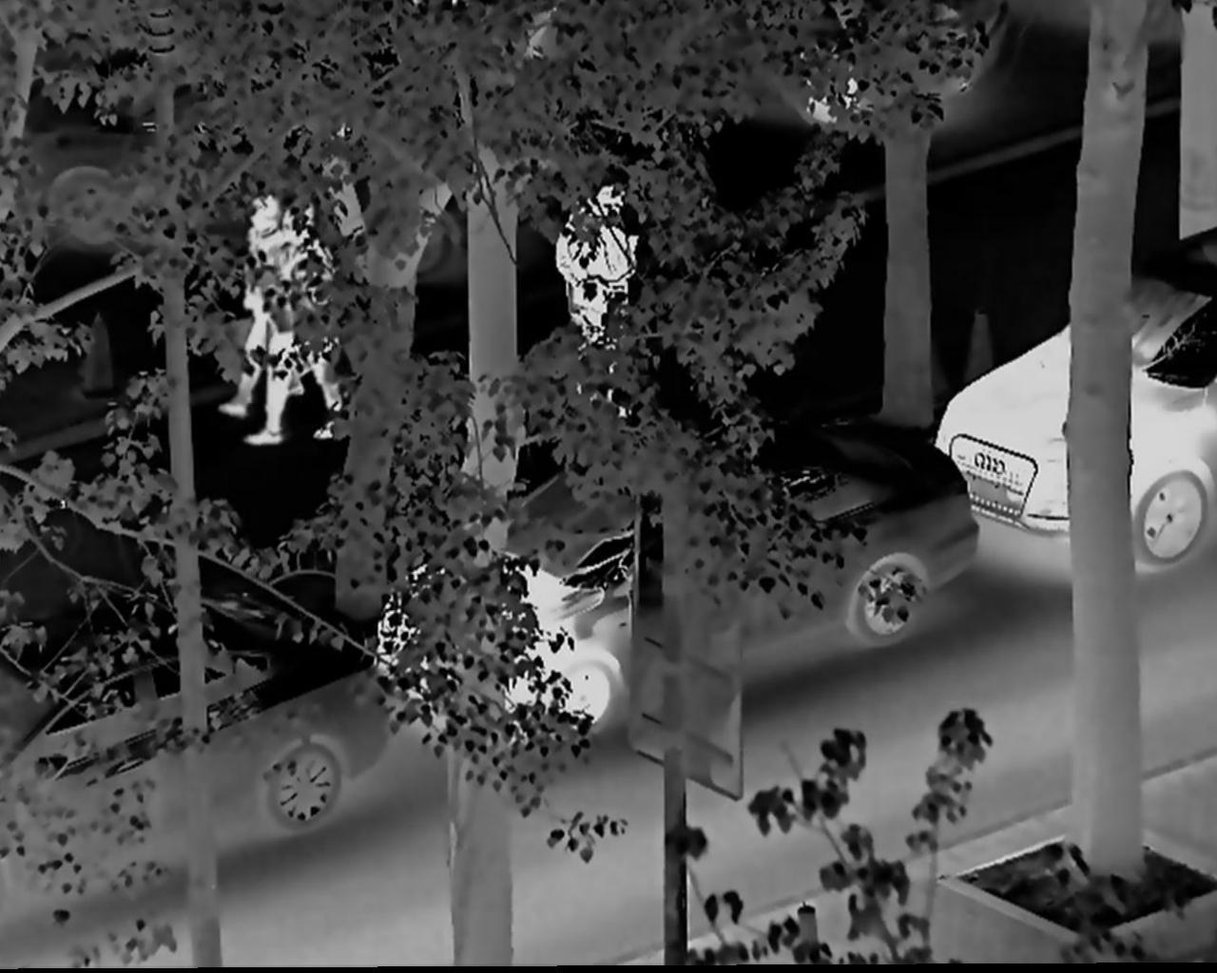person: (257, 199, 347, 444), (229, 197, 305, 421), (586, 186, 642, 379), (554, 198, 594, 347)
